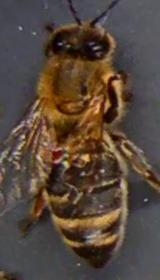varroa_mite: (46, 145, 76, 165)
